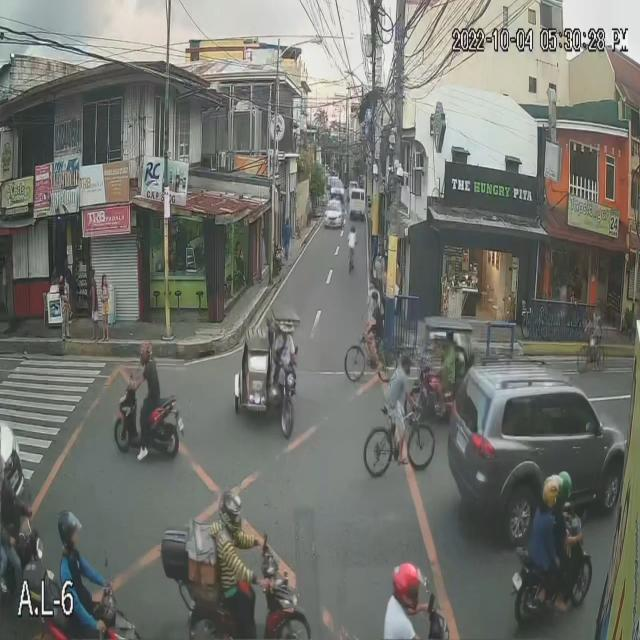Full-Faced: (378, 564, 425, 604), (218, 489, 245, 534), (537, 470, 560, 510), (560, 471, 574, 512), (140, 340, 155, 368)
Half-Faced: (58, 510, 82, 550)
Invalid: (396, 349, 414, 382), (368, 288, 385, 312), (584, 309, 596, 331)
